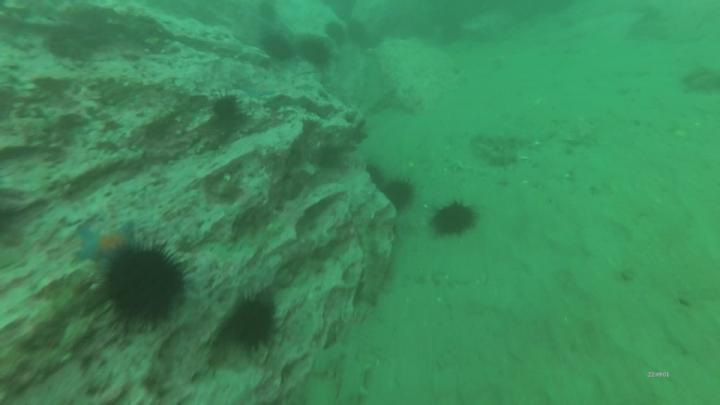echinus: (91, 235, 189, 340), (225, 294, 282, 353), (425, 200, 481, 241), (296, 29, 337, 72), (380, 177, 419, 215), (207, 89, 245, 127), (260, 31, 299, 67), (324, 20, 353, 51), (363, 160, 387, 195), (347, 17, 369, 48), (329, 1, 359, 18)
holothurian: (472, 141, 523, 172), (471, 129, 534, 152)
starfish: (70, 222, 146, 267)
